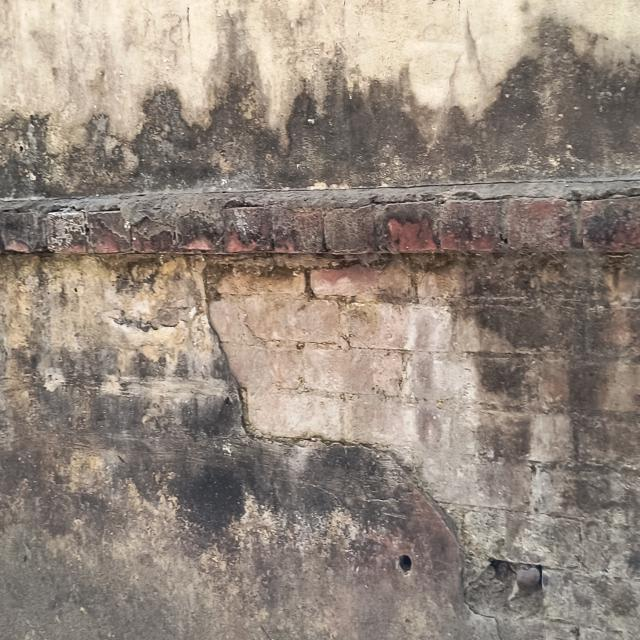spalling: (0, 196, 640, 640)
stain_mould: (0, 257, 494, 640), (0, 6, 640, 199)
